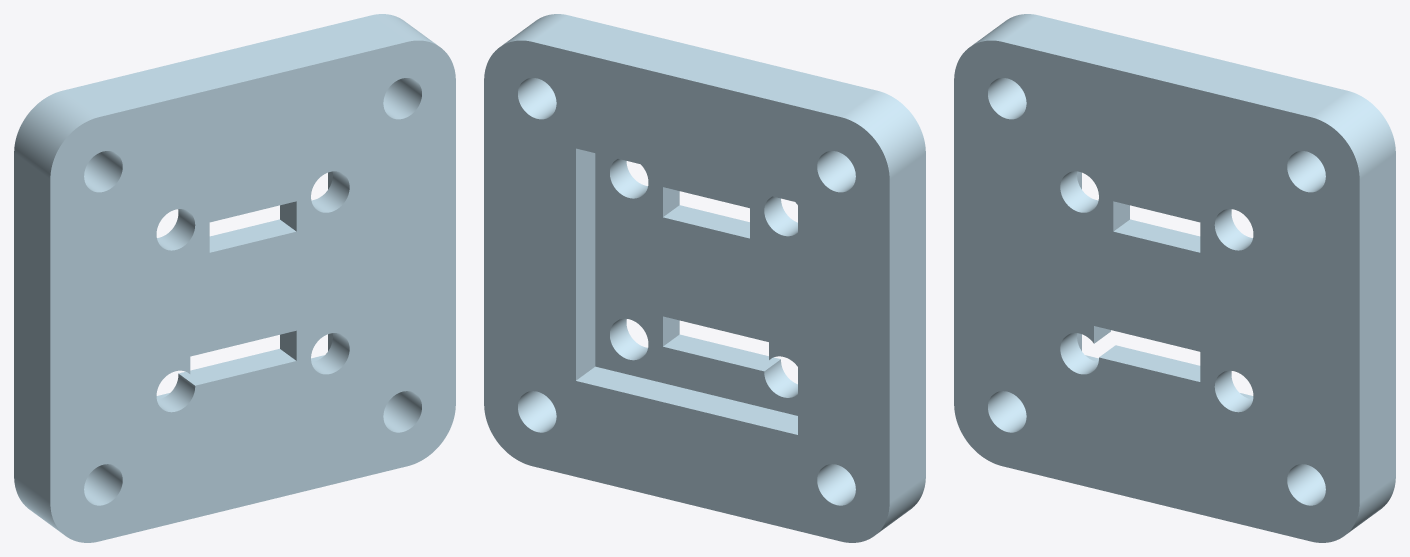
File: as5600_mount.gltf
3 views of the same model, side by side, from view 1: azimuth 30°, elevation 25°; view 2: azimuth 150°, elevation 25°; view 3: azimuth 330°, elevation 25° (orthographic).
Visible parts, largest first — view 1: mesh17, mesh21, mesh20, mesh25, mesh9, mesh10, mesh27, mesh28, mesh29, mesh30, mesh0, mesh12 (+4 smaller); view 2: mesh18, mesh1, mesh21, mesh20, mesh13, mesh16, mesh25, mesh9, mesh10, mesh27, mesh28, mesh29 (+7 smaller); view 3: mesh17, mesh19, mesh20, mesh24, mesh9, mesh10, mesh29, mesh30, mesh28, mesh27, mesh2, mesh11 (+4 smaller).
Boxes of the visible parts, x1=… form: mesh17: x1=50, y1=40, x2=455, y2=542; mesh21: x1=14, y1=153, x2=50, y2=502; mesh20: x1=63, y1=15, x2=407, y2=116; mesh25: x1=14, y1=90, x2=98, y2=178; mesh9: x1=178, y1=348, x2=295, y2=385; mesh10: x1=209, y1=219, x2=295, y2=252; mesh27: x1=84, y1=151, x2=122, y2=192; mesh28: x1=84, y1=464, x2=122, y2=505; mesh29: x1=383, y1=391, x2=421, y2=432; mesh30: x1=383, y1=78, x2=421, y2=119; mesh0: x1=311, y1=333, x2=349, y2=374; mesh12: x1=311, y1=171, x2=349, y2=212; mesh18: x1=484, y1=40, x2=889, y2=542; mesh1: x1=595, y1=153, x2=797, y2=415; mesh21: x1=889, y1=153, x2=925, y2=502; mesh20: x1=532, y1=15, x2=876, y2=116; mesh13: x1=576, y1=148, x2=595, y2=380; mesh16: x1=576, y1=366, x2=797, y2=434; mesh25: x1=841, y1=90, x2=925, y2=178; mesh9: x1=663, y1=334, x2=780, y2=371; mesh10: x1=663, y1=205, x2=749, y2=238; mesh27: x1=817, y1=151, x2=855, y2=192; mesh28: x1=817, y1=464, x2=855, y2=505; mesh29: x1=518, y1=391, x2=556, y2=432; mesh17: x1=954, y1=40, x2=1359, y2=542; mesh19: x1=1359, y1=153, x2=1395, y2=502; mesh20: x1=1002, y1=15, x2=1346, y2=116; mesh24: x1=1311, y1=90, x2=1395, y2=178; mesh9: x1=1099, y1=345, x2=1200, y2=381; mesh10: x1=1114, y1=219, x2=1200, y2=252; mesh29: x1=1287, y1=464, x2=1325, y2=505; mesh30: x1=1287, y1=151, x2=1325, y2=192; mesh28: x1=988, y1=391, x2=1026, y2=432; mesh27: x1=988, y1=78, x2=1026, y2=119; mesh2: x1=1060, y1=333, x2=1098, y2=374; mesh11: x1=1060, y1=171, x2=1098, y2=212.
Size of the model in its own units: 0.042 by 0.042 by 0.0065.
